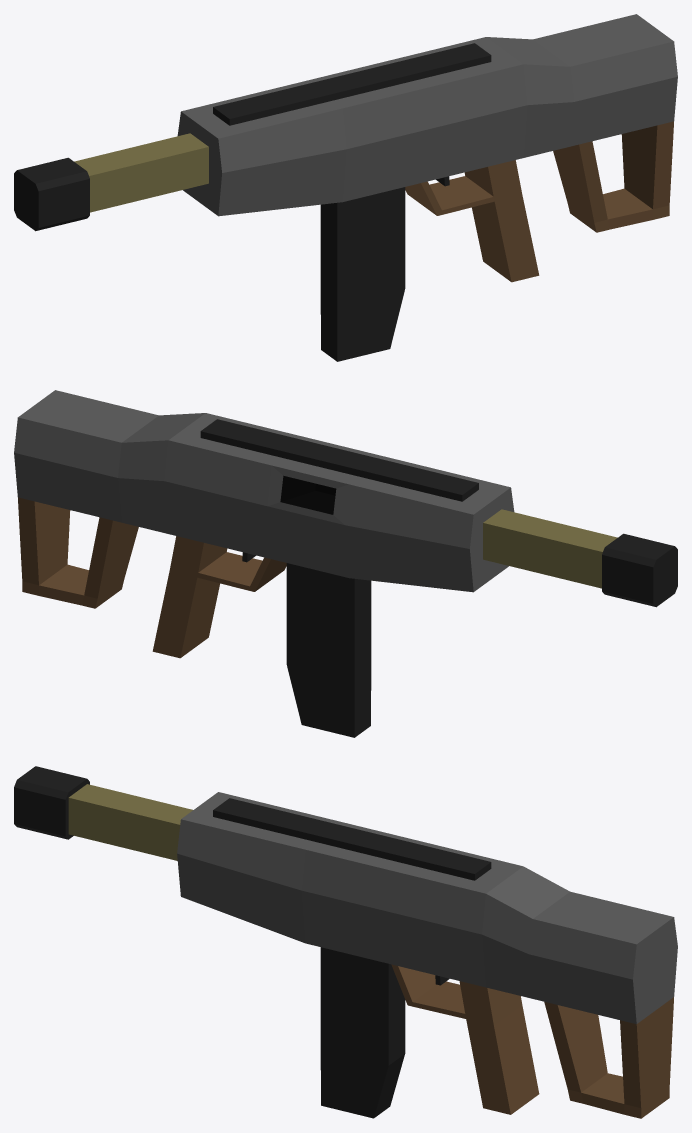
File: assault_rifle.glb
3 renders of one model, top to bottom at view 1: azimuth 30°, elevation 25°; view 2: azimuth 150°, elevation 25°; view 3: azimuth 330°, elevation 25°, orthographic.
Visible parts, largest first — view 1: Cube; view 2: Cube; view 3: Cube.
Boxes of the visible parts, <box> form: Cube: <box>14,14,677,361</box>; Cube: <box>14,390,677,737</box>; Cube: <box>14,766,677,1118</box>.
Size of the model in its own units: 12.34 by 5.04 by 1.53.
